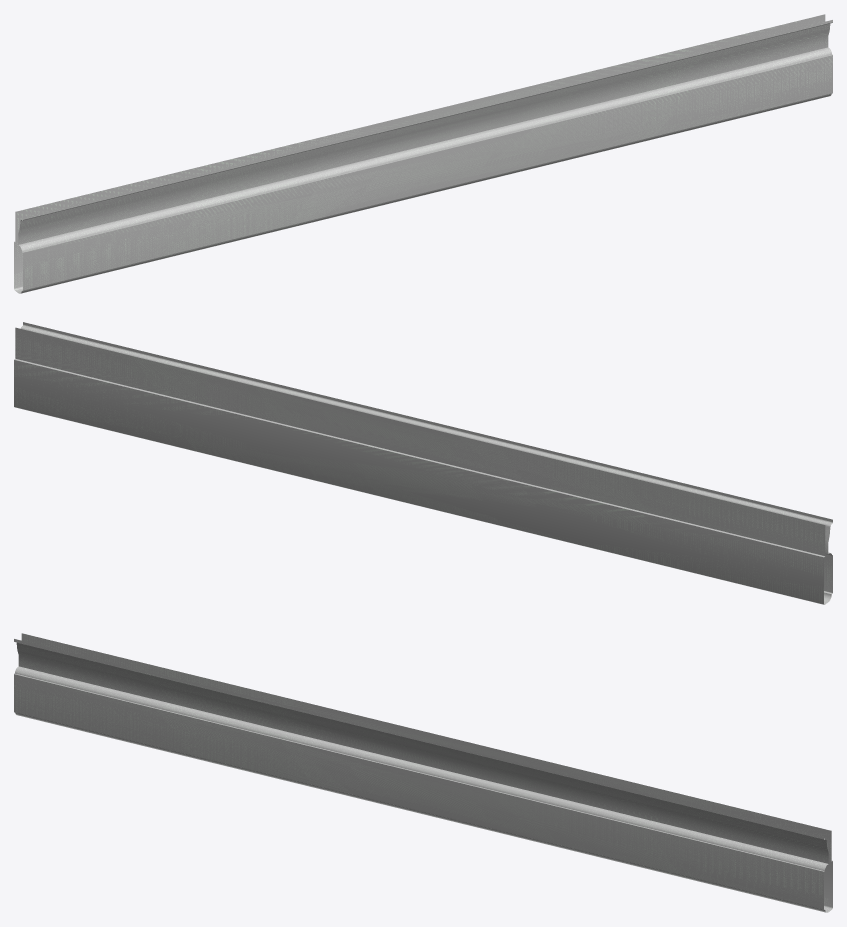
Rendered from original-30.obj.
3 views of the same model, one above another, from view 1: azimuth 30°, elevation 25°; view 2: azimuth 150°, elevation 25°; view 3: azimuth 330°, elevation 25° (orthographic).
Visible parts, largest first — view 1: RB_31_CL1/RB_31_CL/mesh18/mesh18-geometry#mesh18-geometry; view 2: RB_31_CL1/RB_31_CL/mesh18/mesh18-geometry#mesh18-geometry; view 3: RB_31_CL1/RB_31_CL/mesh18/mesh18-geometry#mesh18-geometry.
Boxes of the visible parts, box(x1,y1,x2,y2) form: RB_31_CL1/RB_31_CL/mesh18/mesh18-geometry#mesh18-geometry: box(14, 14, 832, 293); RB_31_CL1/RB_31_CL/mesh18/mesh18-geometry#mesh18-geometry: box(14, 322, 832, 604); RB_31_CL1/RB_31_CL/mesh18/mesh18-geometry#mesh18-geometry: box(14, 633, 832, 912).
Bounding box in the file's own units: 1.51 × 0.1412 × 0.0292.
